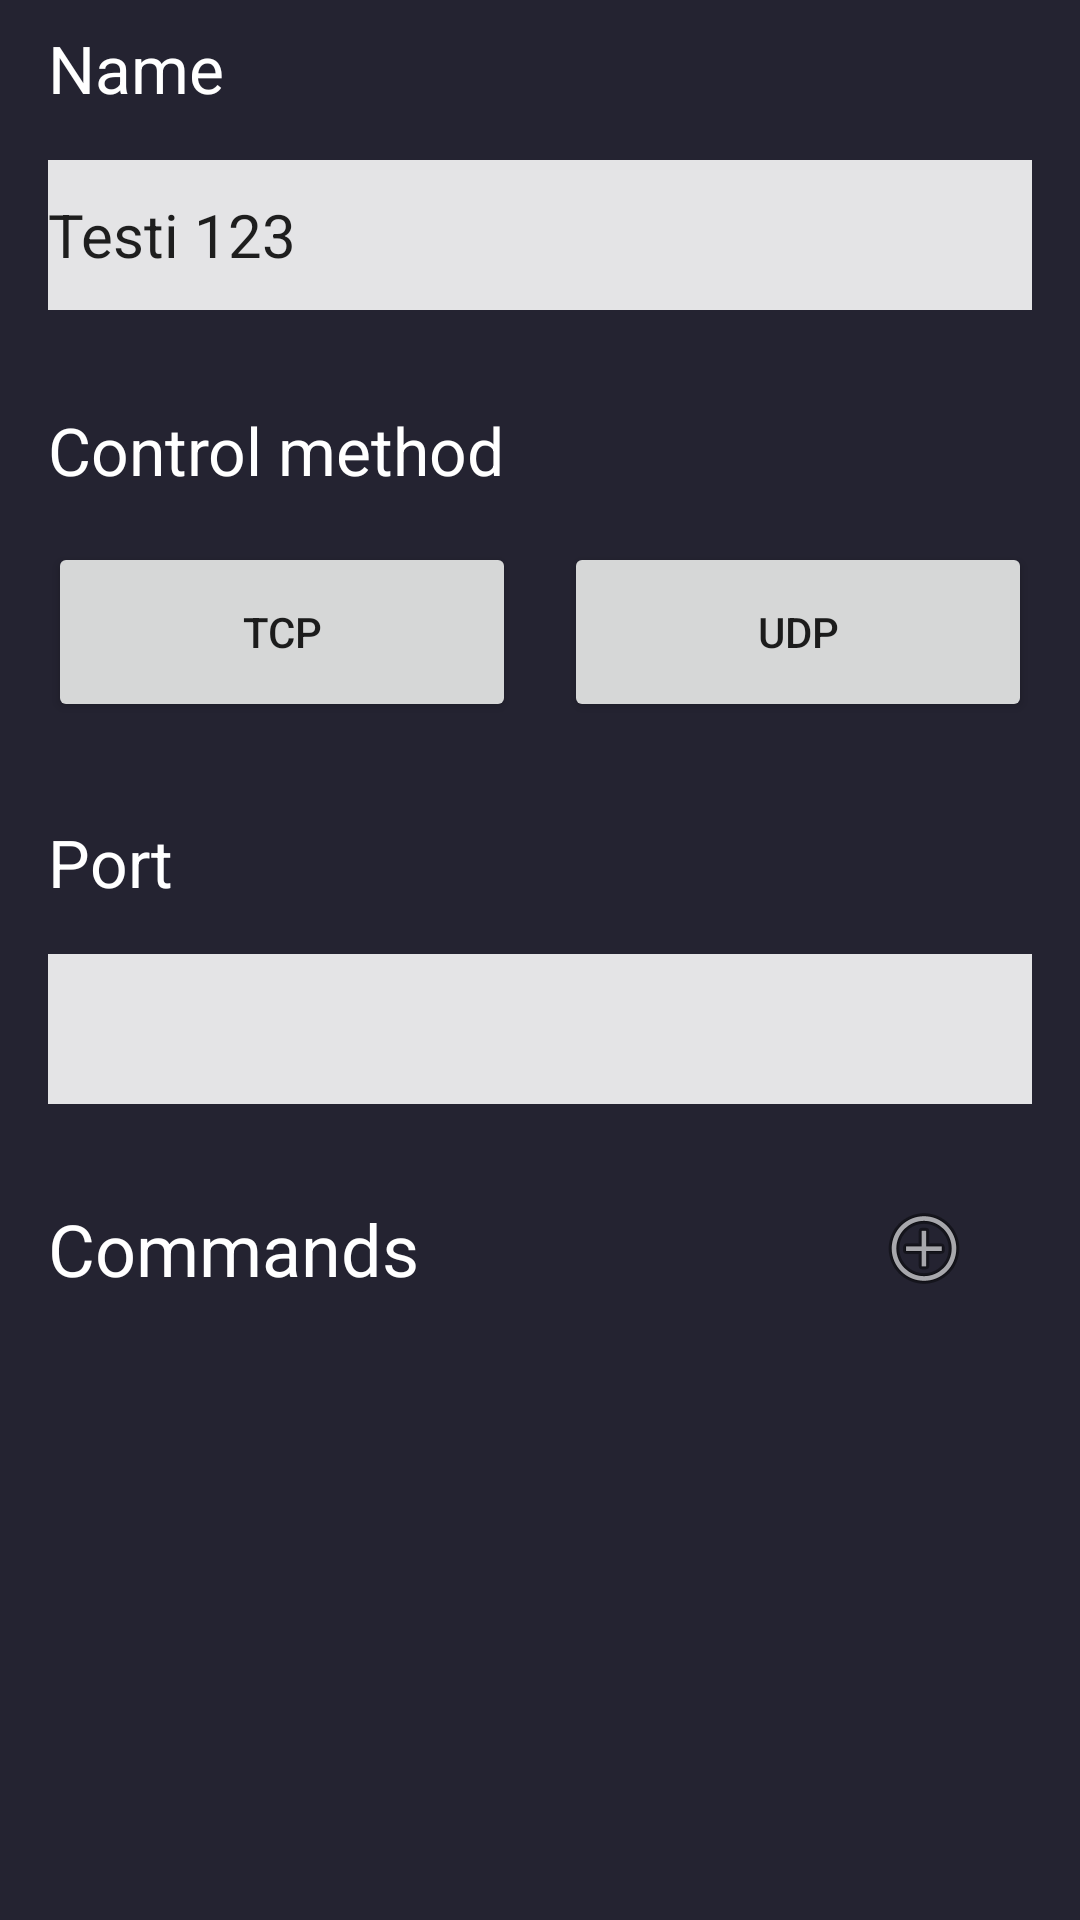

Point at icon controls on the screen. Image size 1080px x 1920px, points as (x=x, y=y).
add: (x=924, y=1248)
